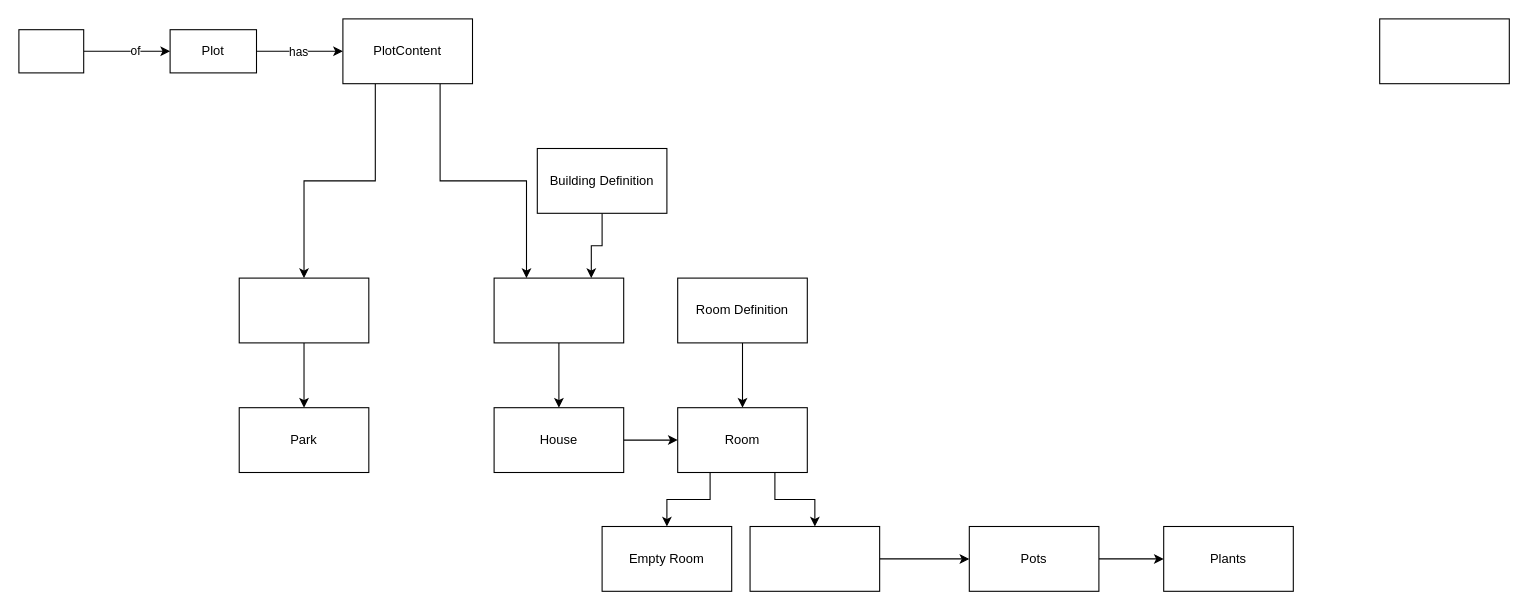
Image size: 1528x610. Some labels were removed from this diagram. The shapes that lost their labels are listed below. From the top down, each one's centre as x and y in pixels, then its label:
At pixel 51 51: "World Grid".
At pixel 1444 51: "UIManager".
At pixel 303 310: "MeetingLocation".
At pixel 558 310: "Building".
At pixel 814 558: "GrowRoom".
